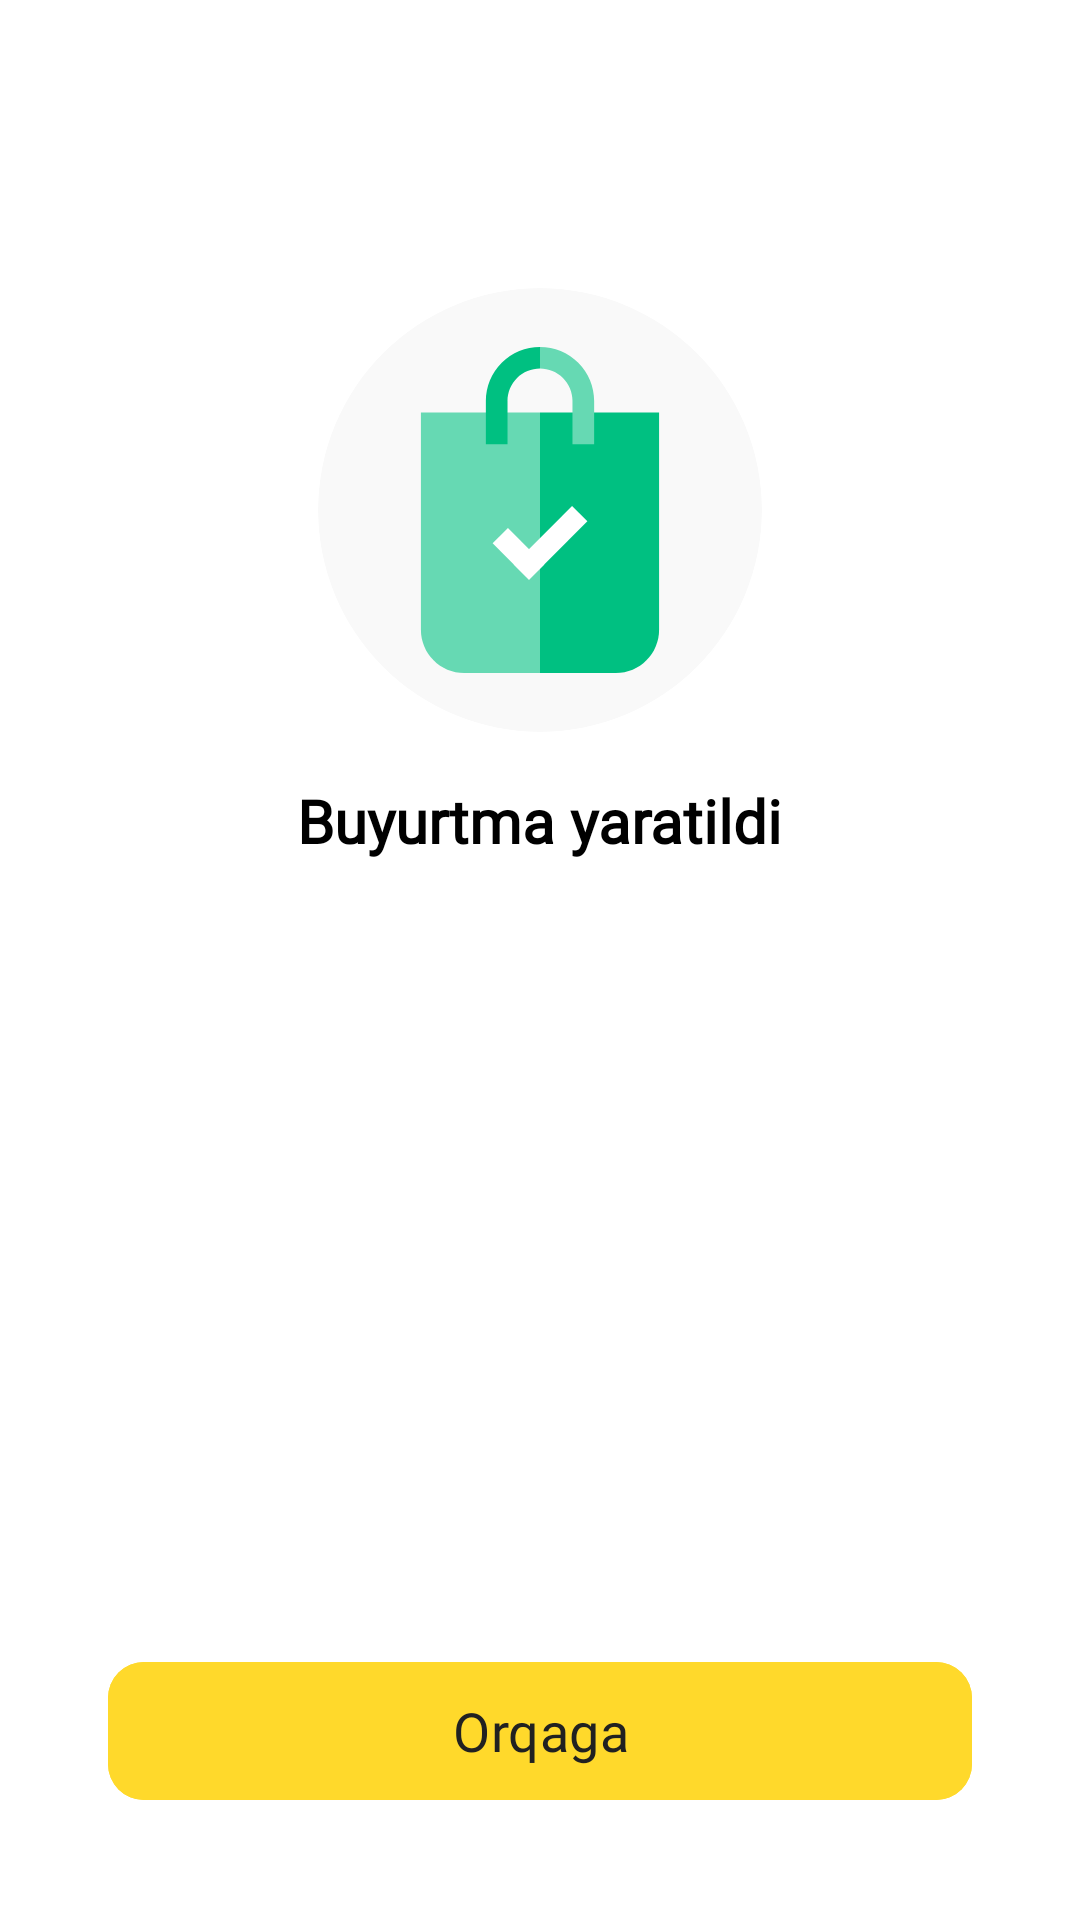

Locate icon controls on the screen. Image size 1080 x 1920, boxes as [left=x1, top=y1, right=x2, bottom=y2].
order confirmation: [left=421, top=347, right=659, bottom=673]
